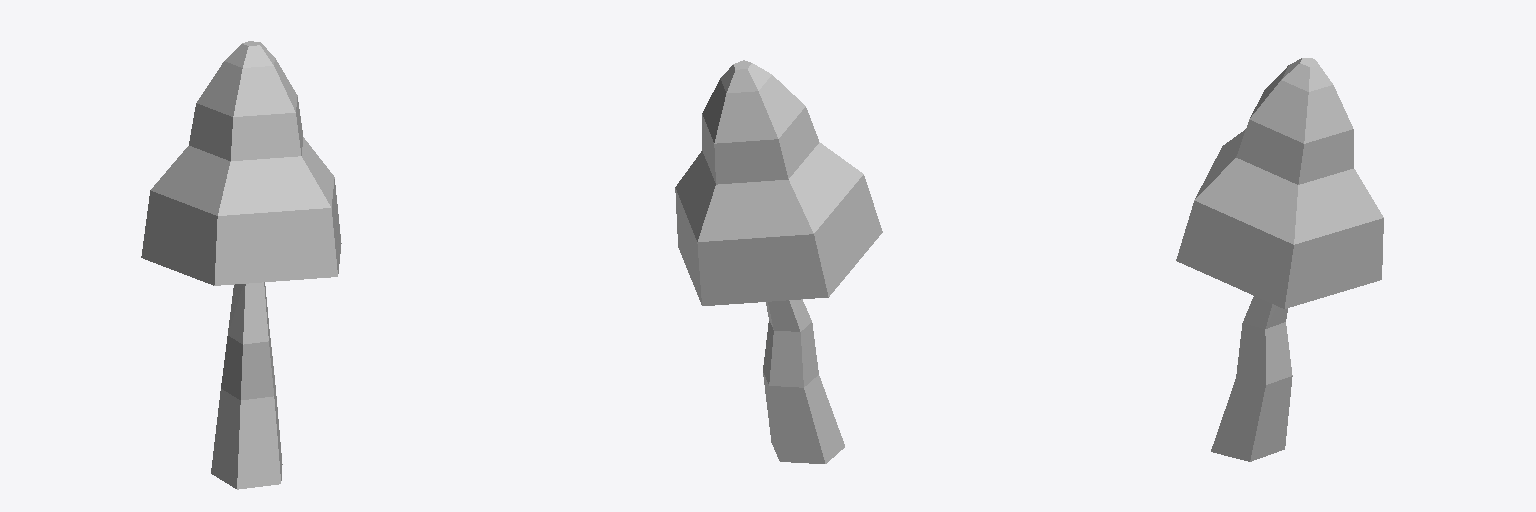
The model's file is smallmushroom3.obj.
3 views of the same model, side by side, from view 1: azimuth 30°, elevation 25°; view 2: azimuth 150°, elevation 25°; view 3: azimuth 270°, elevation 25° (orthographic).
Size of the model in its own units: 0.4957 by 1.08 by 0.509.